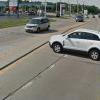Car: (51, 20, 100, 63)
